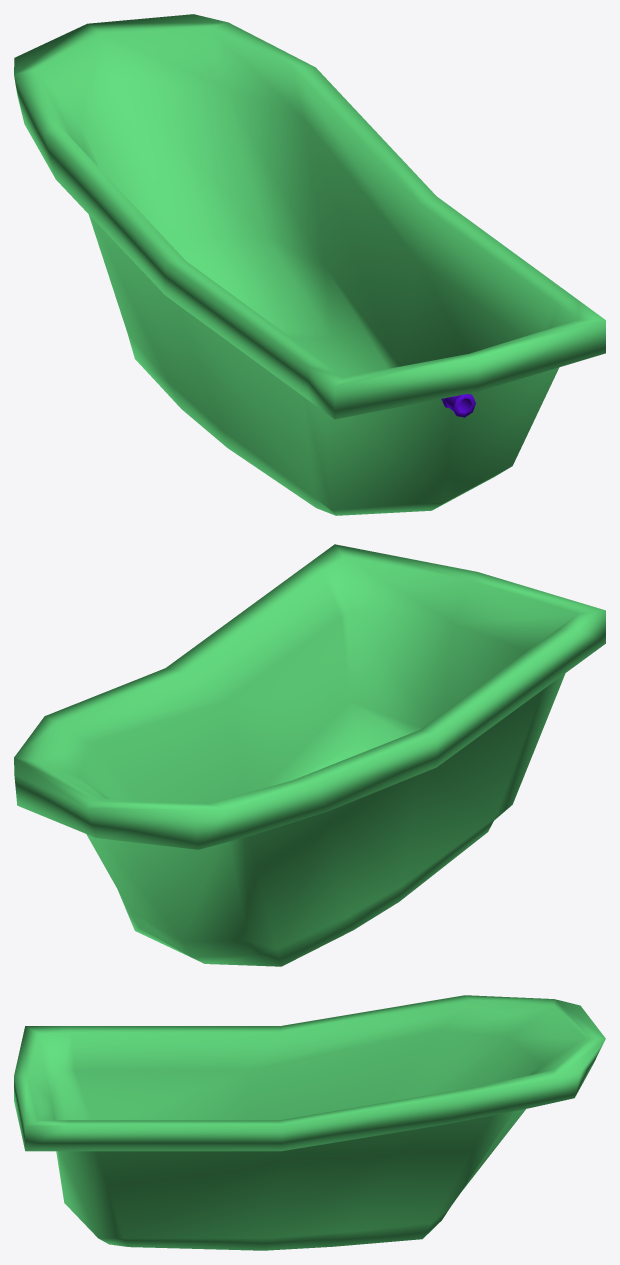
File: Bathtop_01.fbx
3 renders of one model, top to bottom at view 1: azimuth 30°, elevation 25°; view 2: azimuth 150°, elevation 25°; view 3: azimuth 270°, elevation 25°, orthographic. The views are drawn at different scales.
Parts seen in each view (by area): view 1: Bathtop; view 2: Bathtop; view 3: Bathtop.
Boxes of the visible parts, x1,y1,x2,y2 form: Bathtop: [14, 14, 605, 515]; Bathtop: [14, 544, 605, 966]; Bathtop: [14, 995, 605, 1250].
Bounding box in the file's own units: 1398 × 1241 × 3486.
